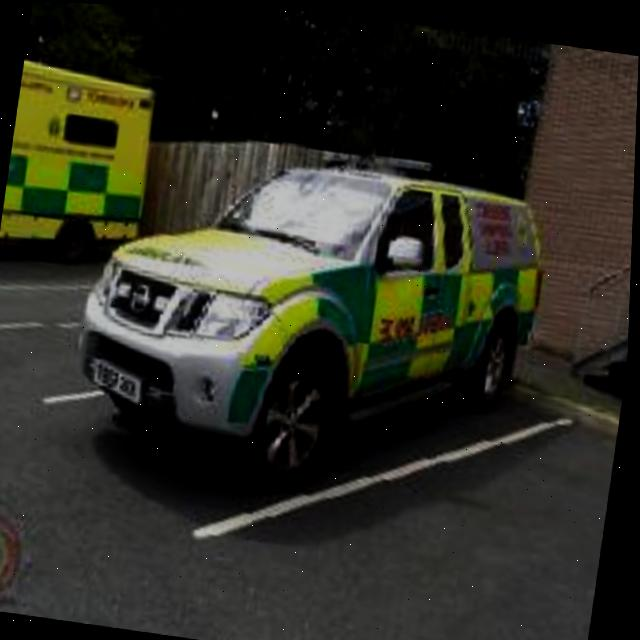emergency: (66, 110, 573, 512)
